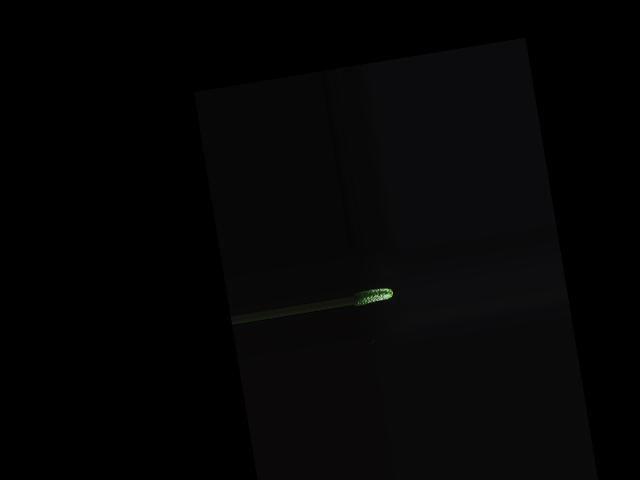cucumber: (351, 286, 394, 307)
